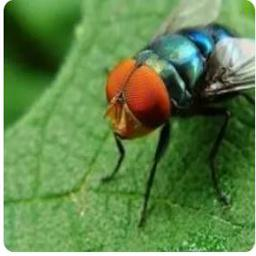liriomyza: (98, 20, 255, 226)
